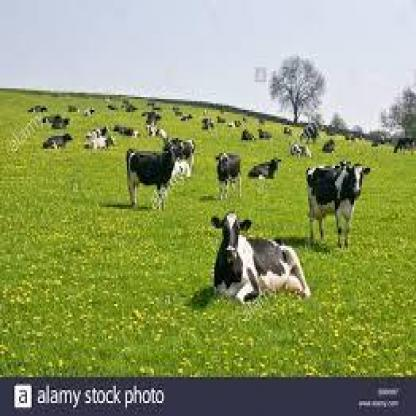cow: (209, 211, 312, 304), (304, 161, 369, 249), (125, 148, 181, 210), (162, 137, 197, 178), (215, 151, 242, 200), (246, 157, 283, 181), (83, 134, 117, 151), (42, 132, 74, 150), (85, 122, 112, 141), (113, 123, 143, 138), (393, 136, 415, 155), (300, 120, 318, 143), (290, 142, 312, 158), (147, 122, 167, 139), (320, 137, 336, 154), (42, 114, 63, 125), (51, 118, 70, 130), (240, 128, 257, 141), (256, 127, 272, 140), (64, 102, 80, 114), (28, 105, 48, 113), (81, 106, 95, 116)
